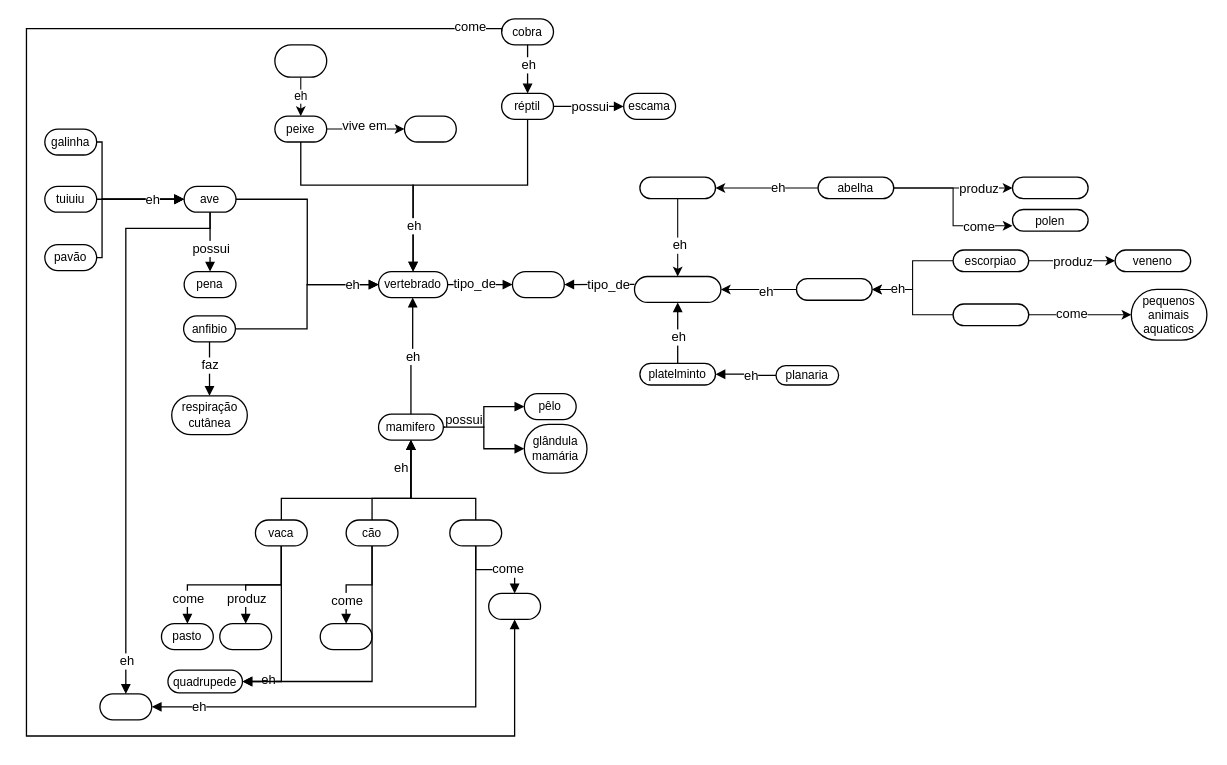
Some shapes in this 1227 by 765 pixel diagram are drawn without their labels. Each missing label, with the centre of its shape:
"animal" belongs at (x=537, y=284).
"artropode" belongs at (x=833, y=288).
"bípede" belongs at (x=125, y=706).
"caranguejo" belongs at (x=990, y=314).
"carne" belongs at (x=514, y=605).
"humano" belongs at (x=475, y=532).
"inbertebrado" belongs at (x=677, y=289).
"inseto" belongs at (x=677, y=187).
"leite" belongs at (x=245, y=636).
"mel" belongs at (x=1049, y=187).
"pintado" belongs at (x=300, y=60).
"ração" belongs at (x=345, y=636).
"água" belongs at (x=429, y=128).
